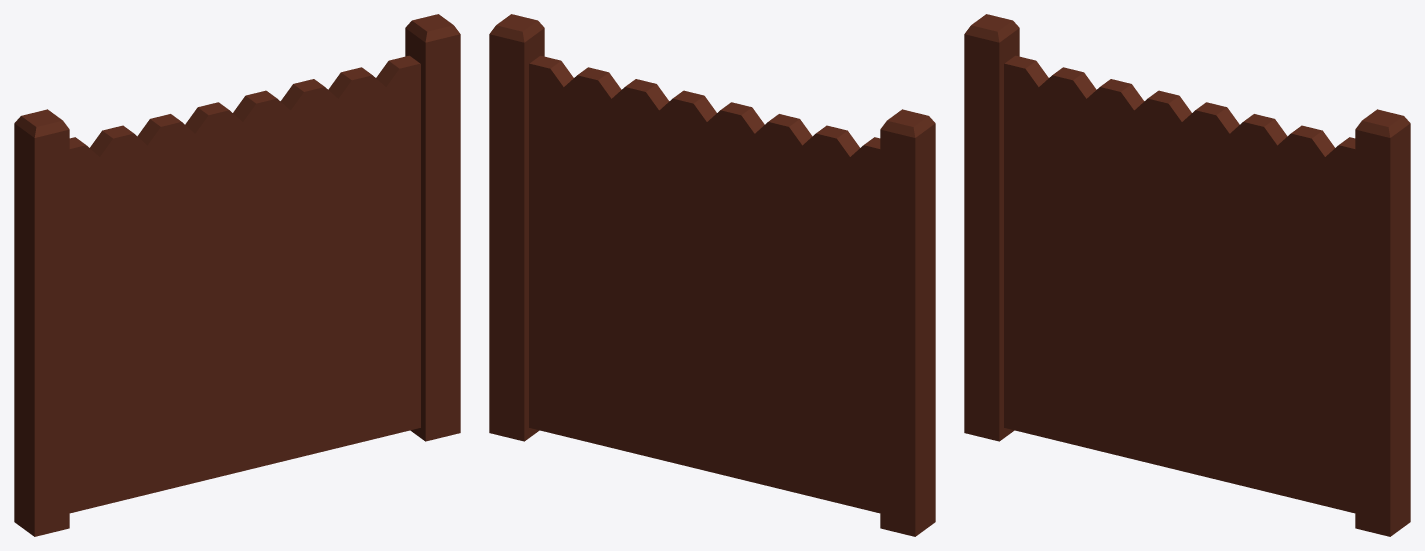
The model's file is fencetall.glb.
3 renders of one model, left to right at view 1: azimuth 30°, elevation 25°; view 2: azimuth 150°, elevation 25°; view 3: azimuth 330°, elevation 25°, orthographic.
Visible parts, largest first — view 1: Cube.005; view 2: Cube.005; view 3: Cube.005.
Part boxes in pixels (x1,y1,x2,y2): Cube.005: [14, 14, 460, 536]; Cube.005: [489, 14, 935, 536]; Cube.005: [964, 14, 1410, 536].
Bounding box in the file's own units: 42.5 × 38.81 × 3.5.
